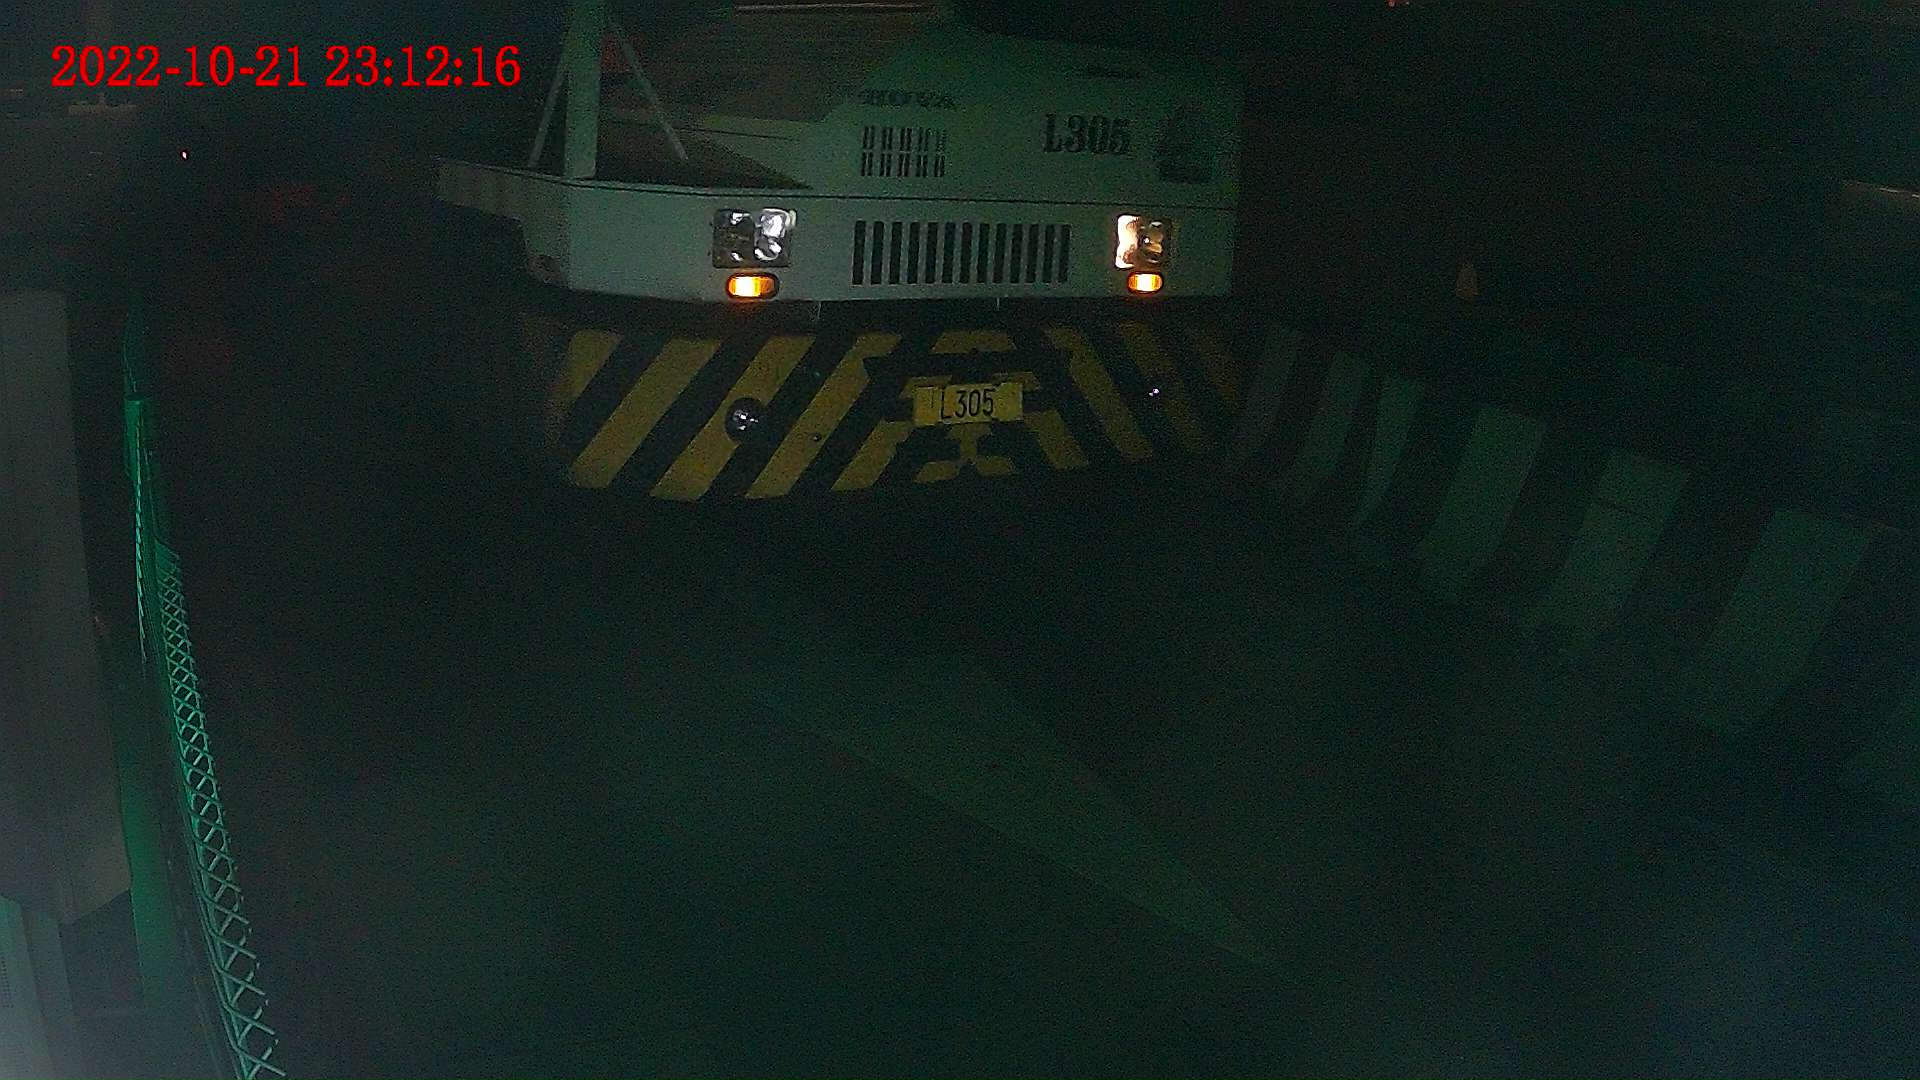head: (383, 1, 1238, 506)
plate: (906, 386, 1026, 419)
